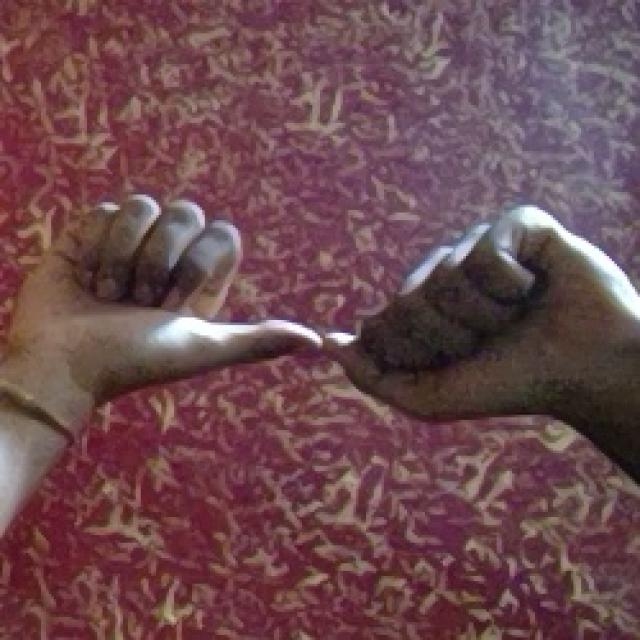Alphabet-A: (15, 188, 611, 441)
